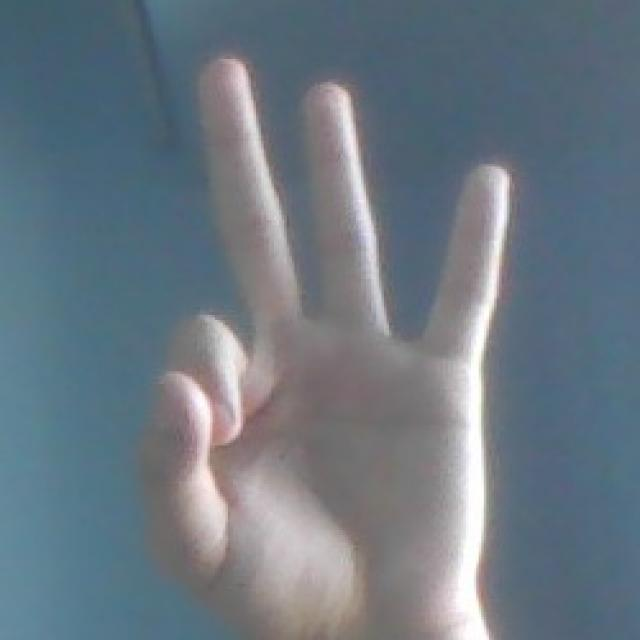Numeric-9: (122, 48, 510, 639)
